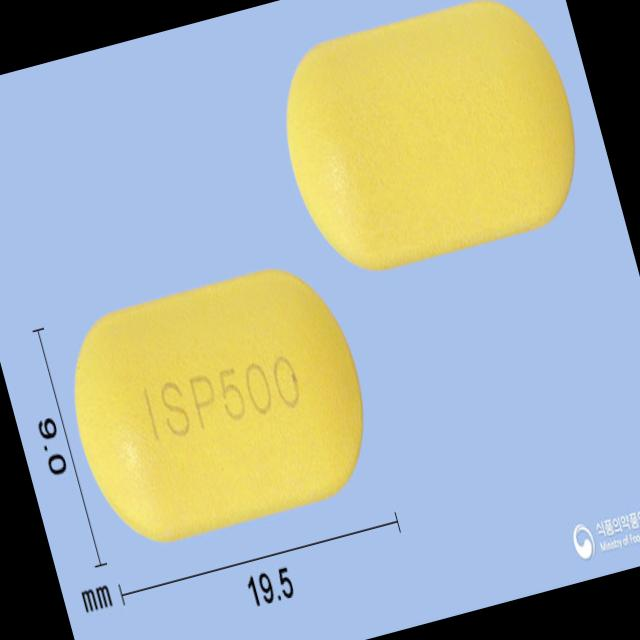Ilsung Clarithromycin: (49, 250, 388, 554)
